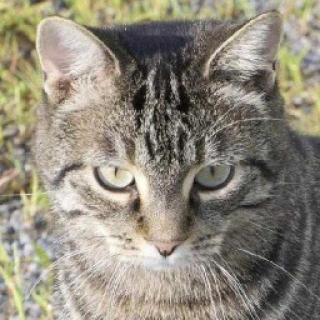cat: (31, 15, 289, 276)
nose: (136, 193, 194, 259)
